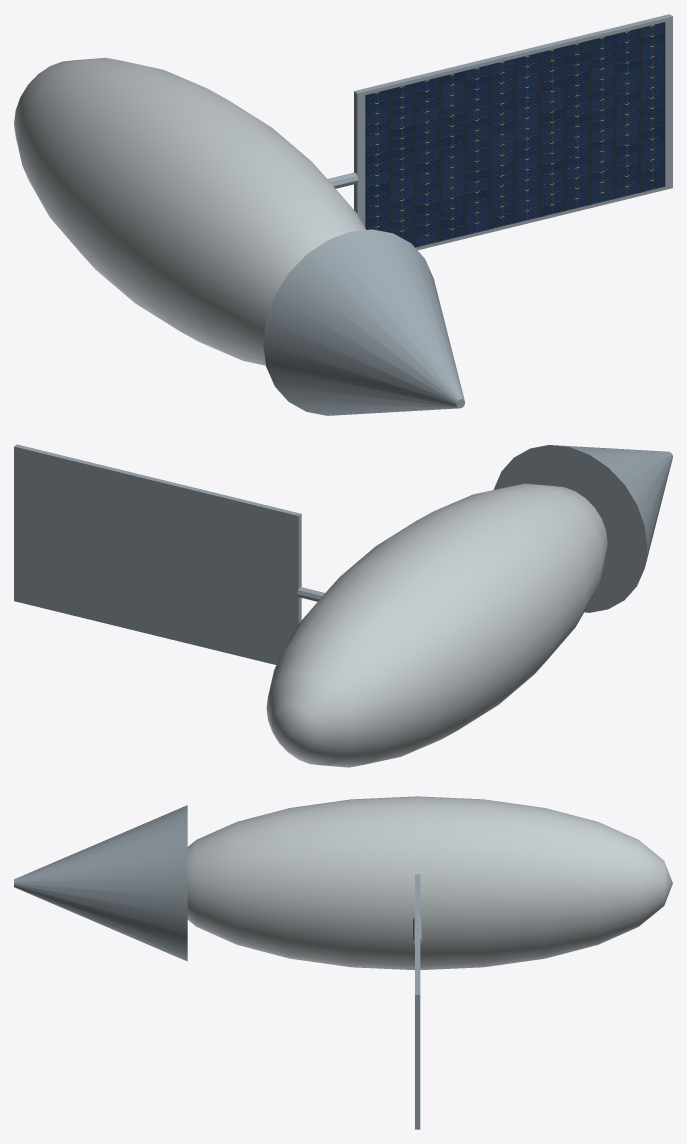
File: ref-7k-tg-10603.glb
The picture shows the model from 3 angles, top to bottom: view 1: azimuth 30°, elevation 25°; view 2: azimuth 150°, elevation 25°; view 3: azimuth 270°, elevation 25°; orthographic projection. The views are drawn at different scales.
Visible parts, largest first — view 1: Spacecraft body, Photovoltaic laminates, Conical section, Array frame; view 2: Spacecraft body, Array frame, Conical section; view 3: Spacecraft body, Conical section, Array frame.
Part boxes in pixels (bbox=[...]): Spacecraft body: bbox=[14, 57, 366, 365]; Photovoltaic laminates: bbox=[365, 22, 665, 247]; Conical section: bbox=[263, 229, 464, 415]; Array frame: bbox=[354, 14, 672, 250]; Spacecraft body: bbox=[266, 483, 607, 767]; Array frame: bbox=[14, 444, 301, 664]; Conical section: bbox=[493, 445, 672, 612]; Spacecraft body: bbox=[187, 796, 672, 970]; Conical section: bbox=[14, 805, 187, 961]; Array frame: bbox=[415, 874, 420, 1129].
Size of the model in its own units: 7.9 by 2.7 by 10.19.
Materials: 3 (1 with a texture image).
